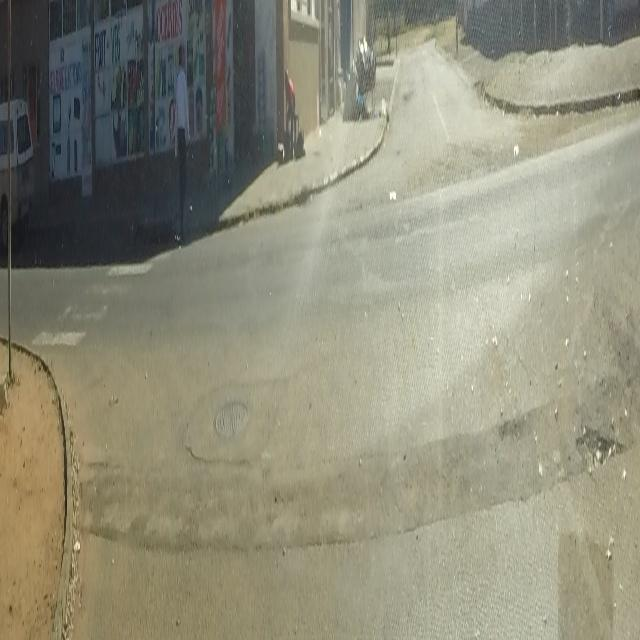pothole: (579, 417, 620, 475)
